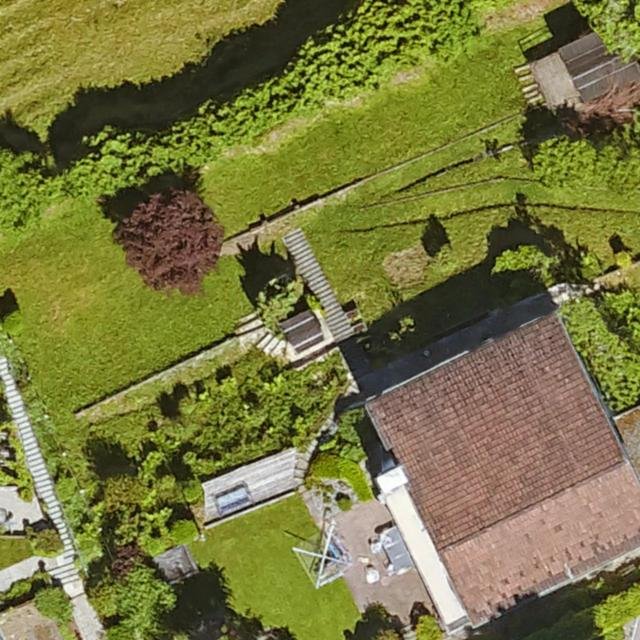tree: (117, 188, 224, 290), (84, 544, 176, 632), (65, 126, 155, 200), (0, 143, 54, 231), (588, 0, 640, 62), (596, 124, 640, 194), (102, 469, 160, 521), (539, 133, 595, 184)
